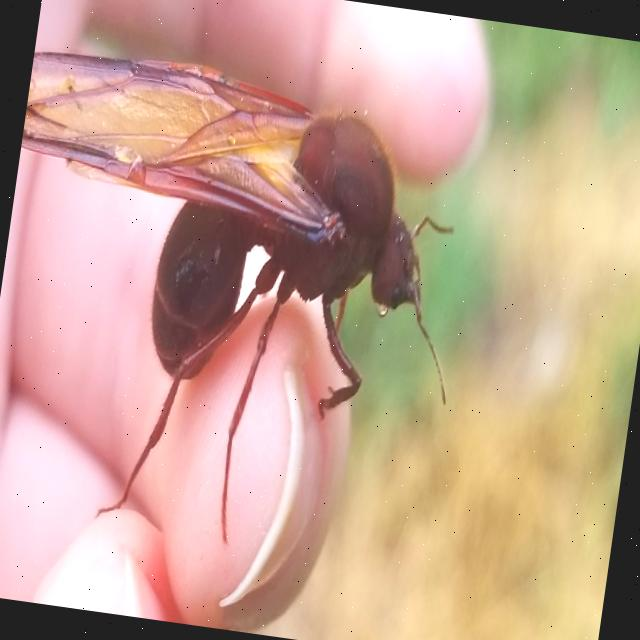Alive-Female-Alate: (0, 41, 487, 572)
